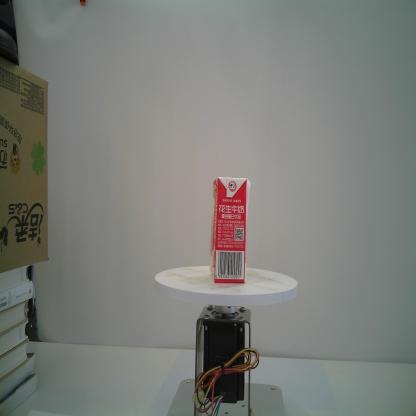Milk: (209, 174, 252, 285)
